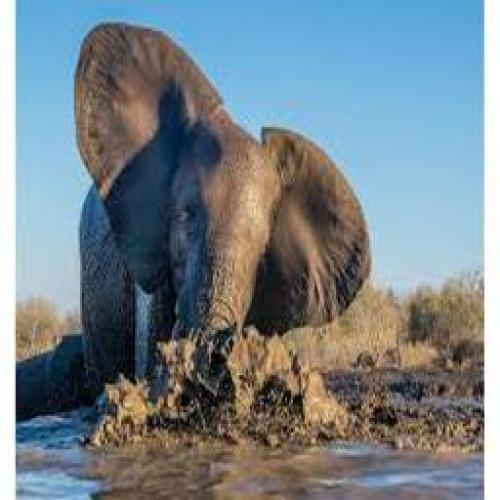african_elephant-endangered: (22, 21, 372, 439)
